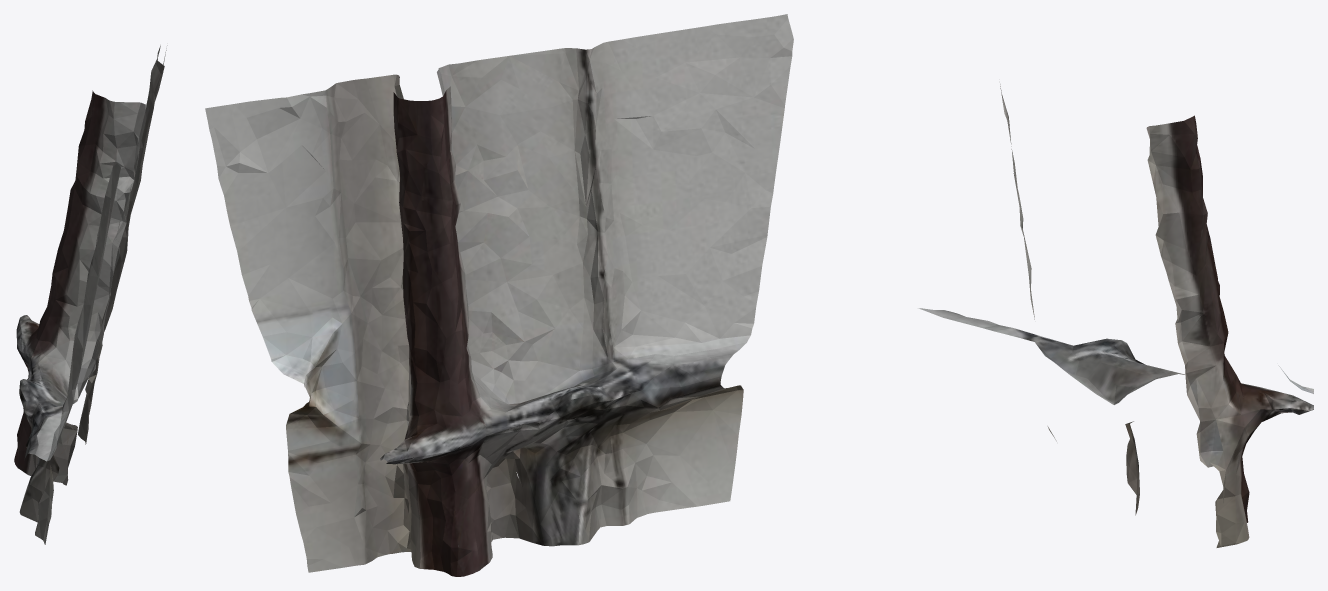
3 views of the same model, side by side, from view 1: azimuth 30°, elevation 25°; view 2: azimuth 150°, elevation 25°; view 3: azimuth 270°, elevation 25° (orthographic). The views are drawn at different scales.
Size of the model in its own units: 0.6914 by 0.8374 by 0.8374.
3 materials, 3 textured.
